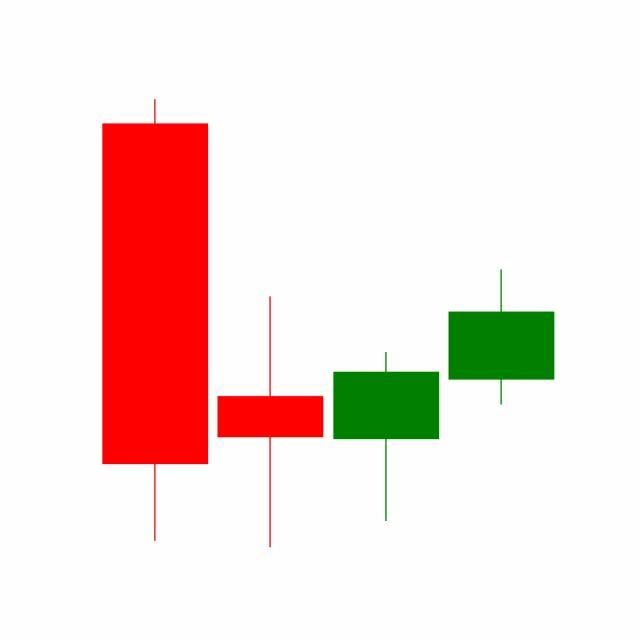Three Outside Up-Down: (211, 266, 555, 549)
